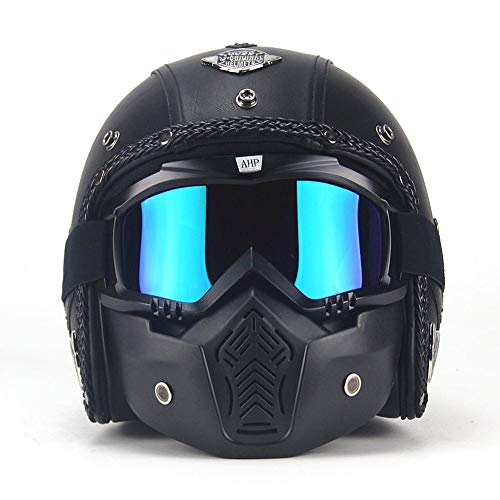with_helmet: (54, 34, 453, 459)
